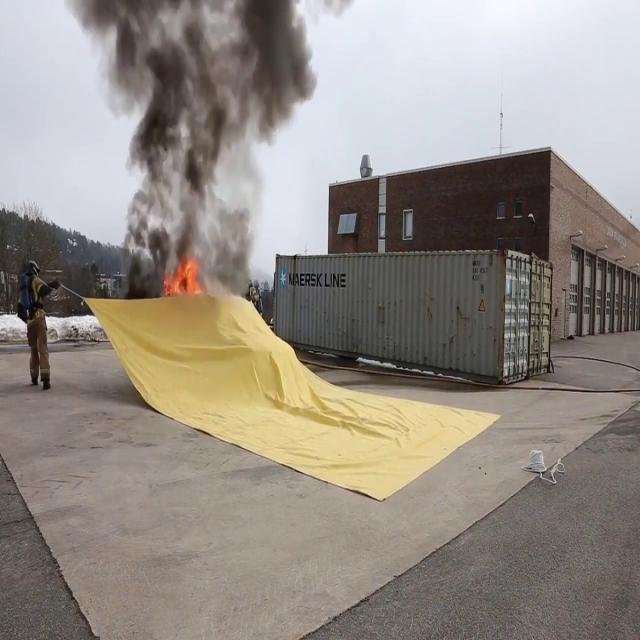Fire: (166, 250, 204, 297)
Smoke: (85, 0, 318, 264)
